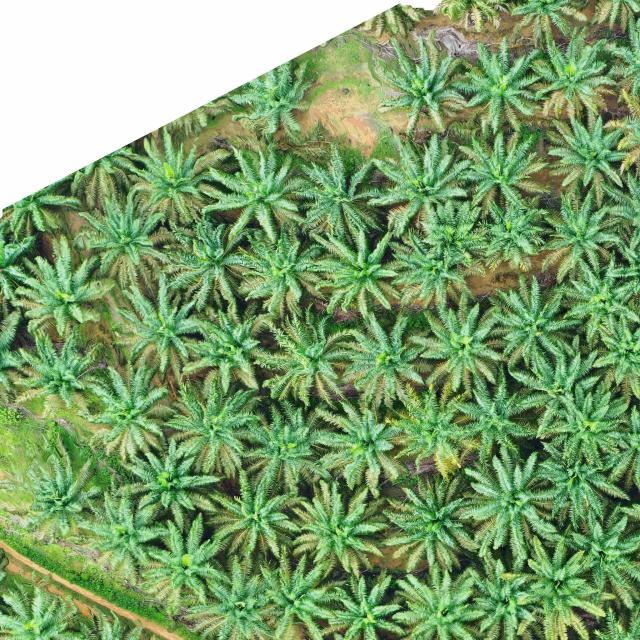Tree: (368, 128, 477, 240), (464, 440, 563, 560), (198, 138, 310, 243), (160, 374, 267, 483), (511, 533, 618, 640), (406, 290, 504, 406), (282, 477, 391, 581), (72, 180, 175, 290), (252, 301, 356, 407), (116, 430, 225, 530), (110, 274, 206, 387), (381, 473, 479, 582), (534, 427, 633, 530), (6, 236, 114, 330), (453, 32, 549, 137), (374, 31, 469, 137), (228, 222, 335, 316), (334, 307, 430, 410), (386, 380, 486, 478), (290, 138, 387, 239), (155, 215, 255, 311), (140, 512, 236, 610), (2, 326, 108, 414), (310, 396, 406, 492), (236, 398, 332, 494), (508, 346, 602, 441), (87, 361, 178, 459), (452, 122, 550, 213), (307, 228, 407, 317), (544, 108, 633, 208), (481, 277, 577, 369), (79, 488, 170, 582), (563, 502, 640, 612), (181, 554, 278, 640), (546, 380, 635, 472), (198, 477, 290, 565), (453, 371, 541, 460), (553, 253, 640, 343), (526, 34, 618, 118), (534, 192, 618, 284), (180, 300, 262, 394), (258, 547, 339, 640), (468, 190, 552, 272), (391, 232, 475, 310), (26, 452, 102, 536), (390, 570, 480, 640), (458, 555, 529, 640), (324, 570, 402, 640), (423, 196, 489, 271), (262, 370, 316, 406)
